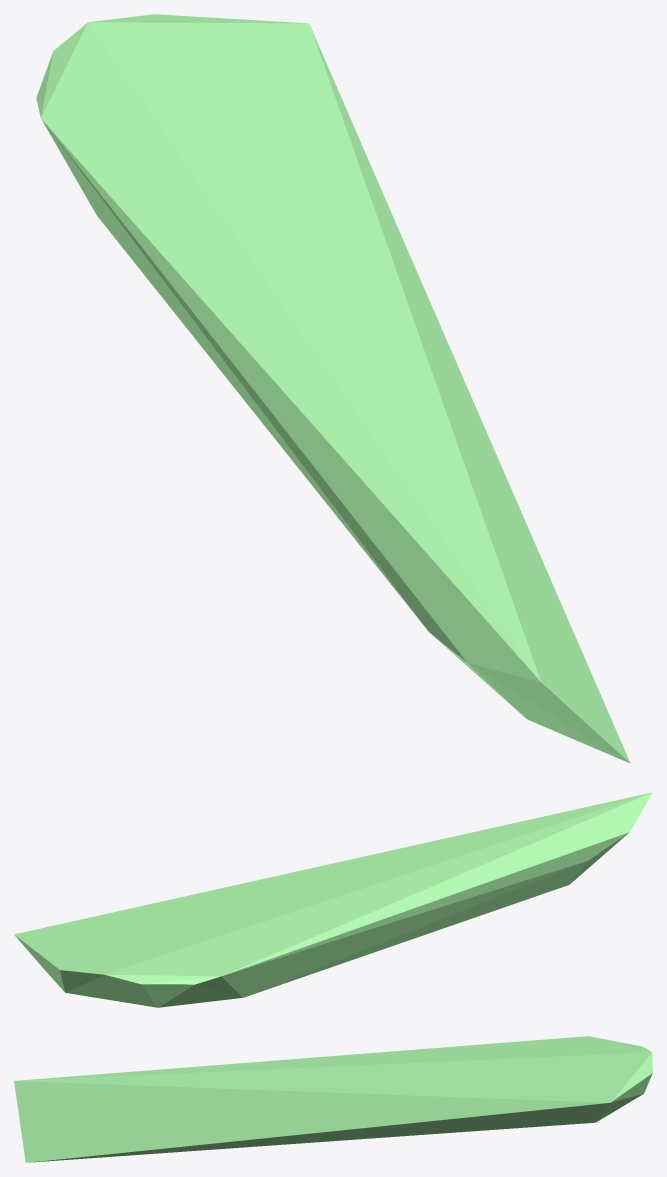
Rendered from dualpanda_Panda_rightArm_link5_respondable_coll_2.dae.
3 views of the same model, one above another, from view 1: azimuth 30°, elevation 25°; view 2: azimuth 150°, elevation 25°; view 3: azimuth 270°, elevation 25° (orthographic). The views are drawn at different scales.
Parts seen in each view (by area): view 1: node; view 2: node; view 3: node.
Part boxes in pixels (x1,y1,x2,y2): node: (36, 14, 630, 763); node: (14, 792, 652, 1007); node: (14, 1036, 652, 1162).
Size of the model in its own units: 0.0811 by 0.053 by 0.2341.
